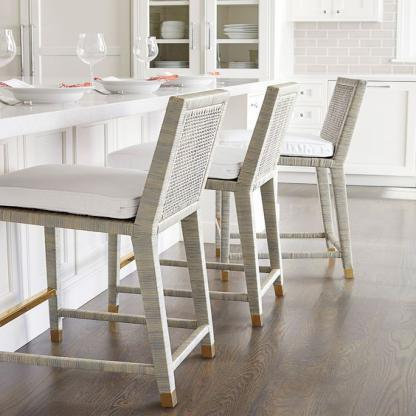chair: (0, 82, 233, 416), (106, 74, 302, 299), (291, 60, 377, 286)
table: (0, 77, 294, 352)
